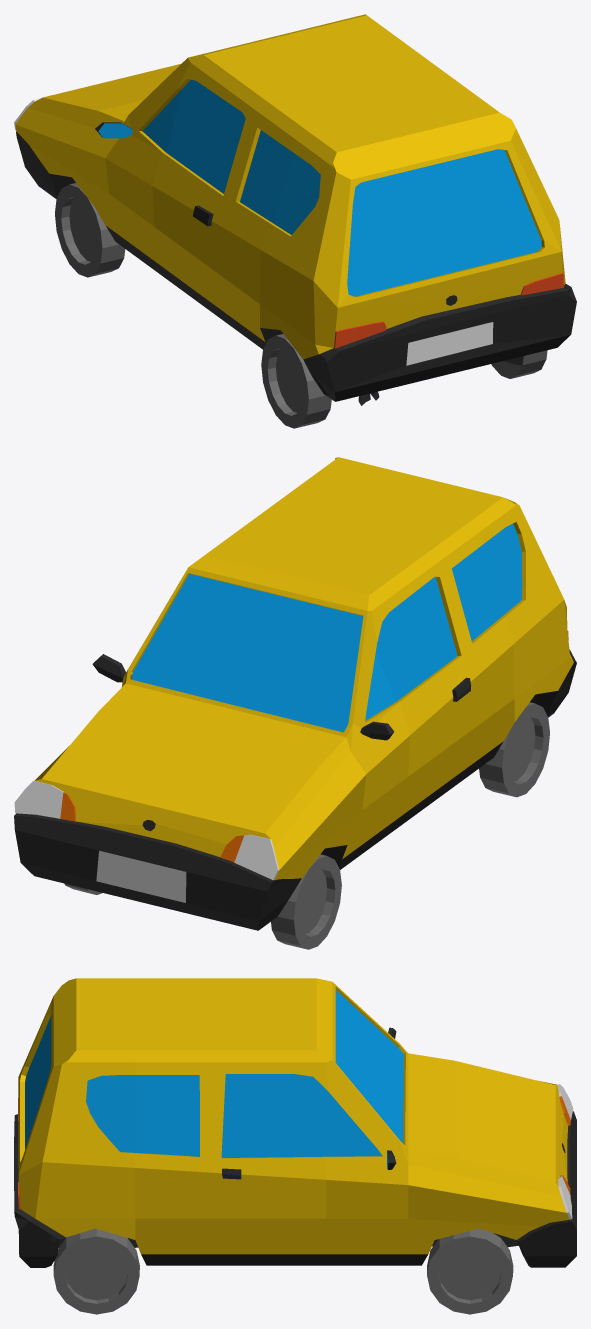
Rendered from Seizento600.fbx.
The picture shows the model from 3 angles, top to bottom: view 1: azimuth 30°, elevation 25°; view 2: azimuth 150°, elevation 25°; view 3: azimuth 270°, elevation 25°; orthographic projection. The views are drawn at different scales.
Parts seen in each view (by area): view 1: body, glass, chissas, Cylinder.001, Cylinder.004, lights, Cylinder.002; view 2: body, glass, chissas, lights, Cylinder.004, Cylinder.001; view 3: body, glass, chissas, Cylinder.002, Cylinder.003, lights.
Boxes of the visible parts, x1,y1,x2,y2 form: body: (15,14,565,359); glass: (98,79,541,296); chissas: (16,122,576,401); Cylinder.001: (261,334,331,428); Cylinder.004: (55,183,125,277); lights: (14,94,563,365); Cylinder.002: (491,350,547,378); body: (35,457,573,879); glass: (131,523,522,732); chissas: (14,649,576,930); lights: (14,631,568,902); Cylinder.004: (271,854,341,949); Cylinder.001: (479,702,549,797); body: (18,978,569,1254); glass: (25,990,403,1168); chissas: (14,1027,576,1267); Cylinder.002: (53,1228,139,1314); Cylinder.003: (427,1228,513,1314); lights: (18,1084,573,1219).
Bounding box in the file's own units: 82.03 × 72.77 × 150.
